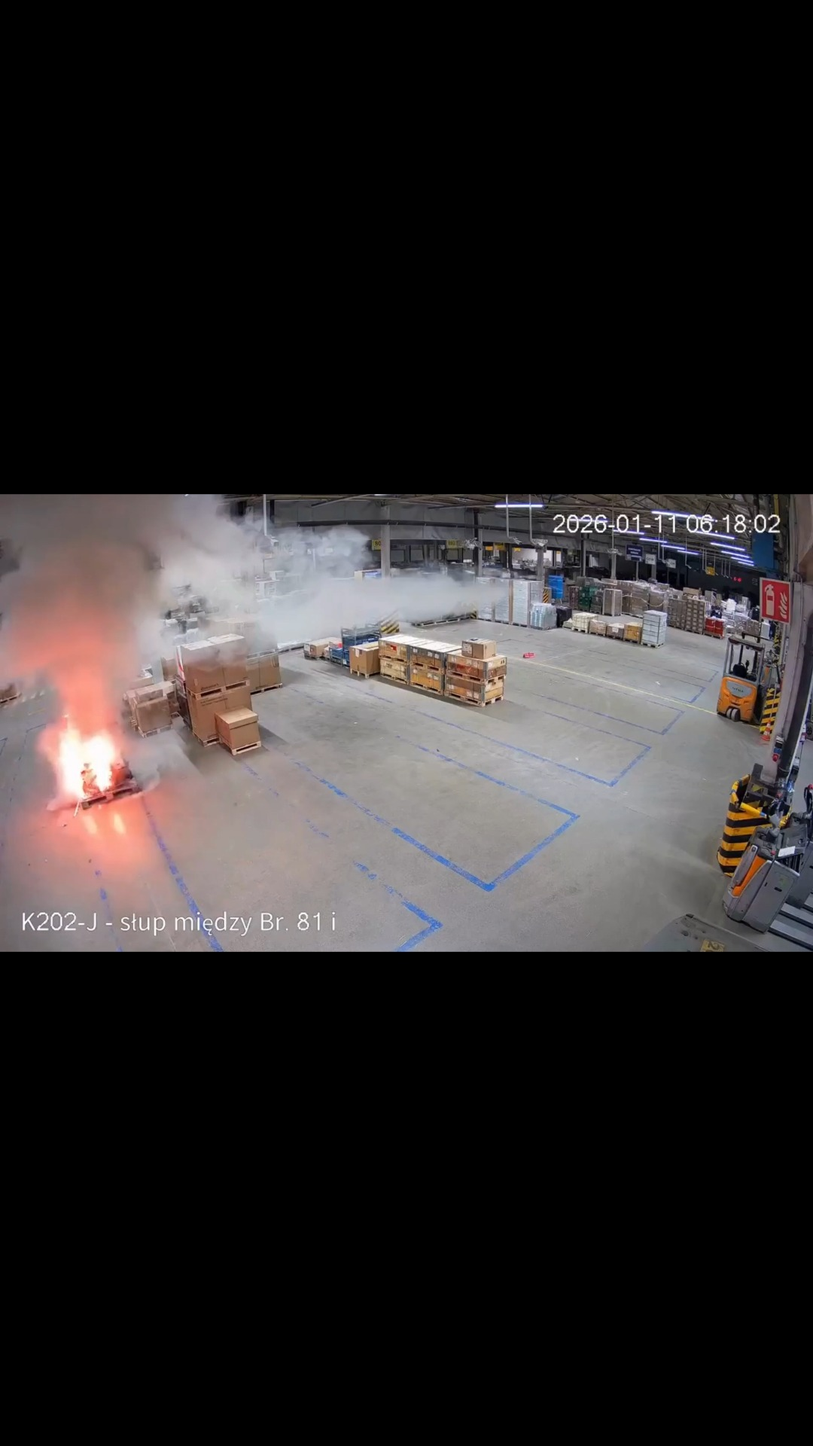fire: (45, 709, 136, 813)
smoke: (23, 501, 354, 679)
